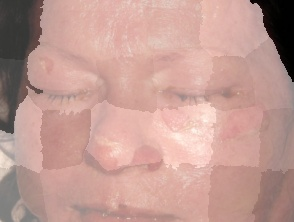SJS-TEN: (206, 87, 284, 170), (83, 135, 132, 185), (125, 136, 173, 185), (32, 52, 59, 79)
